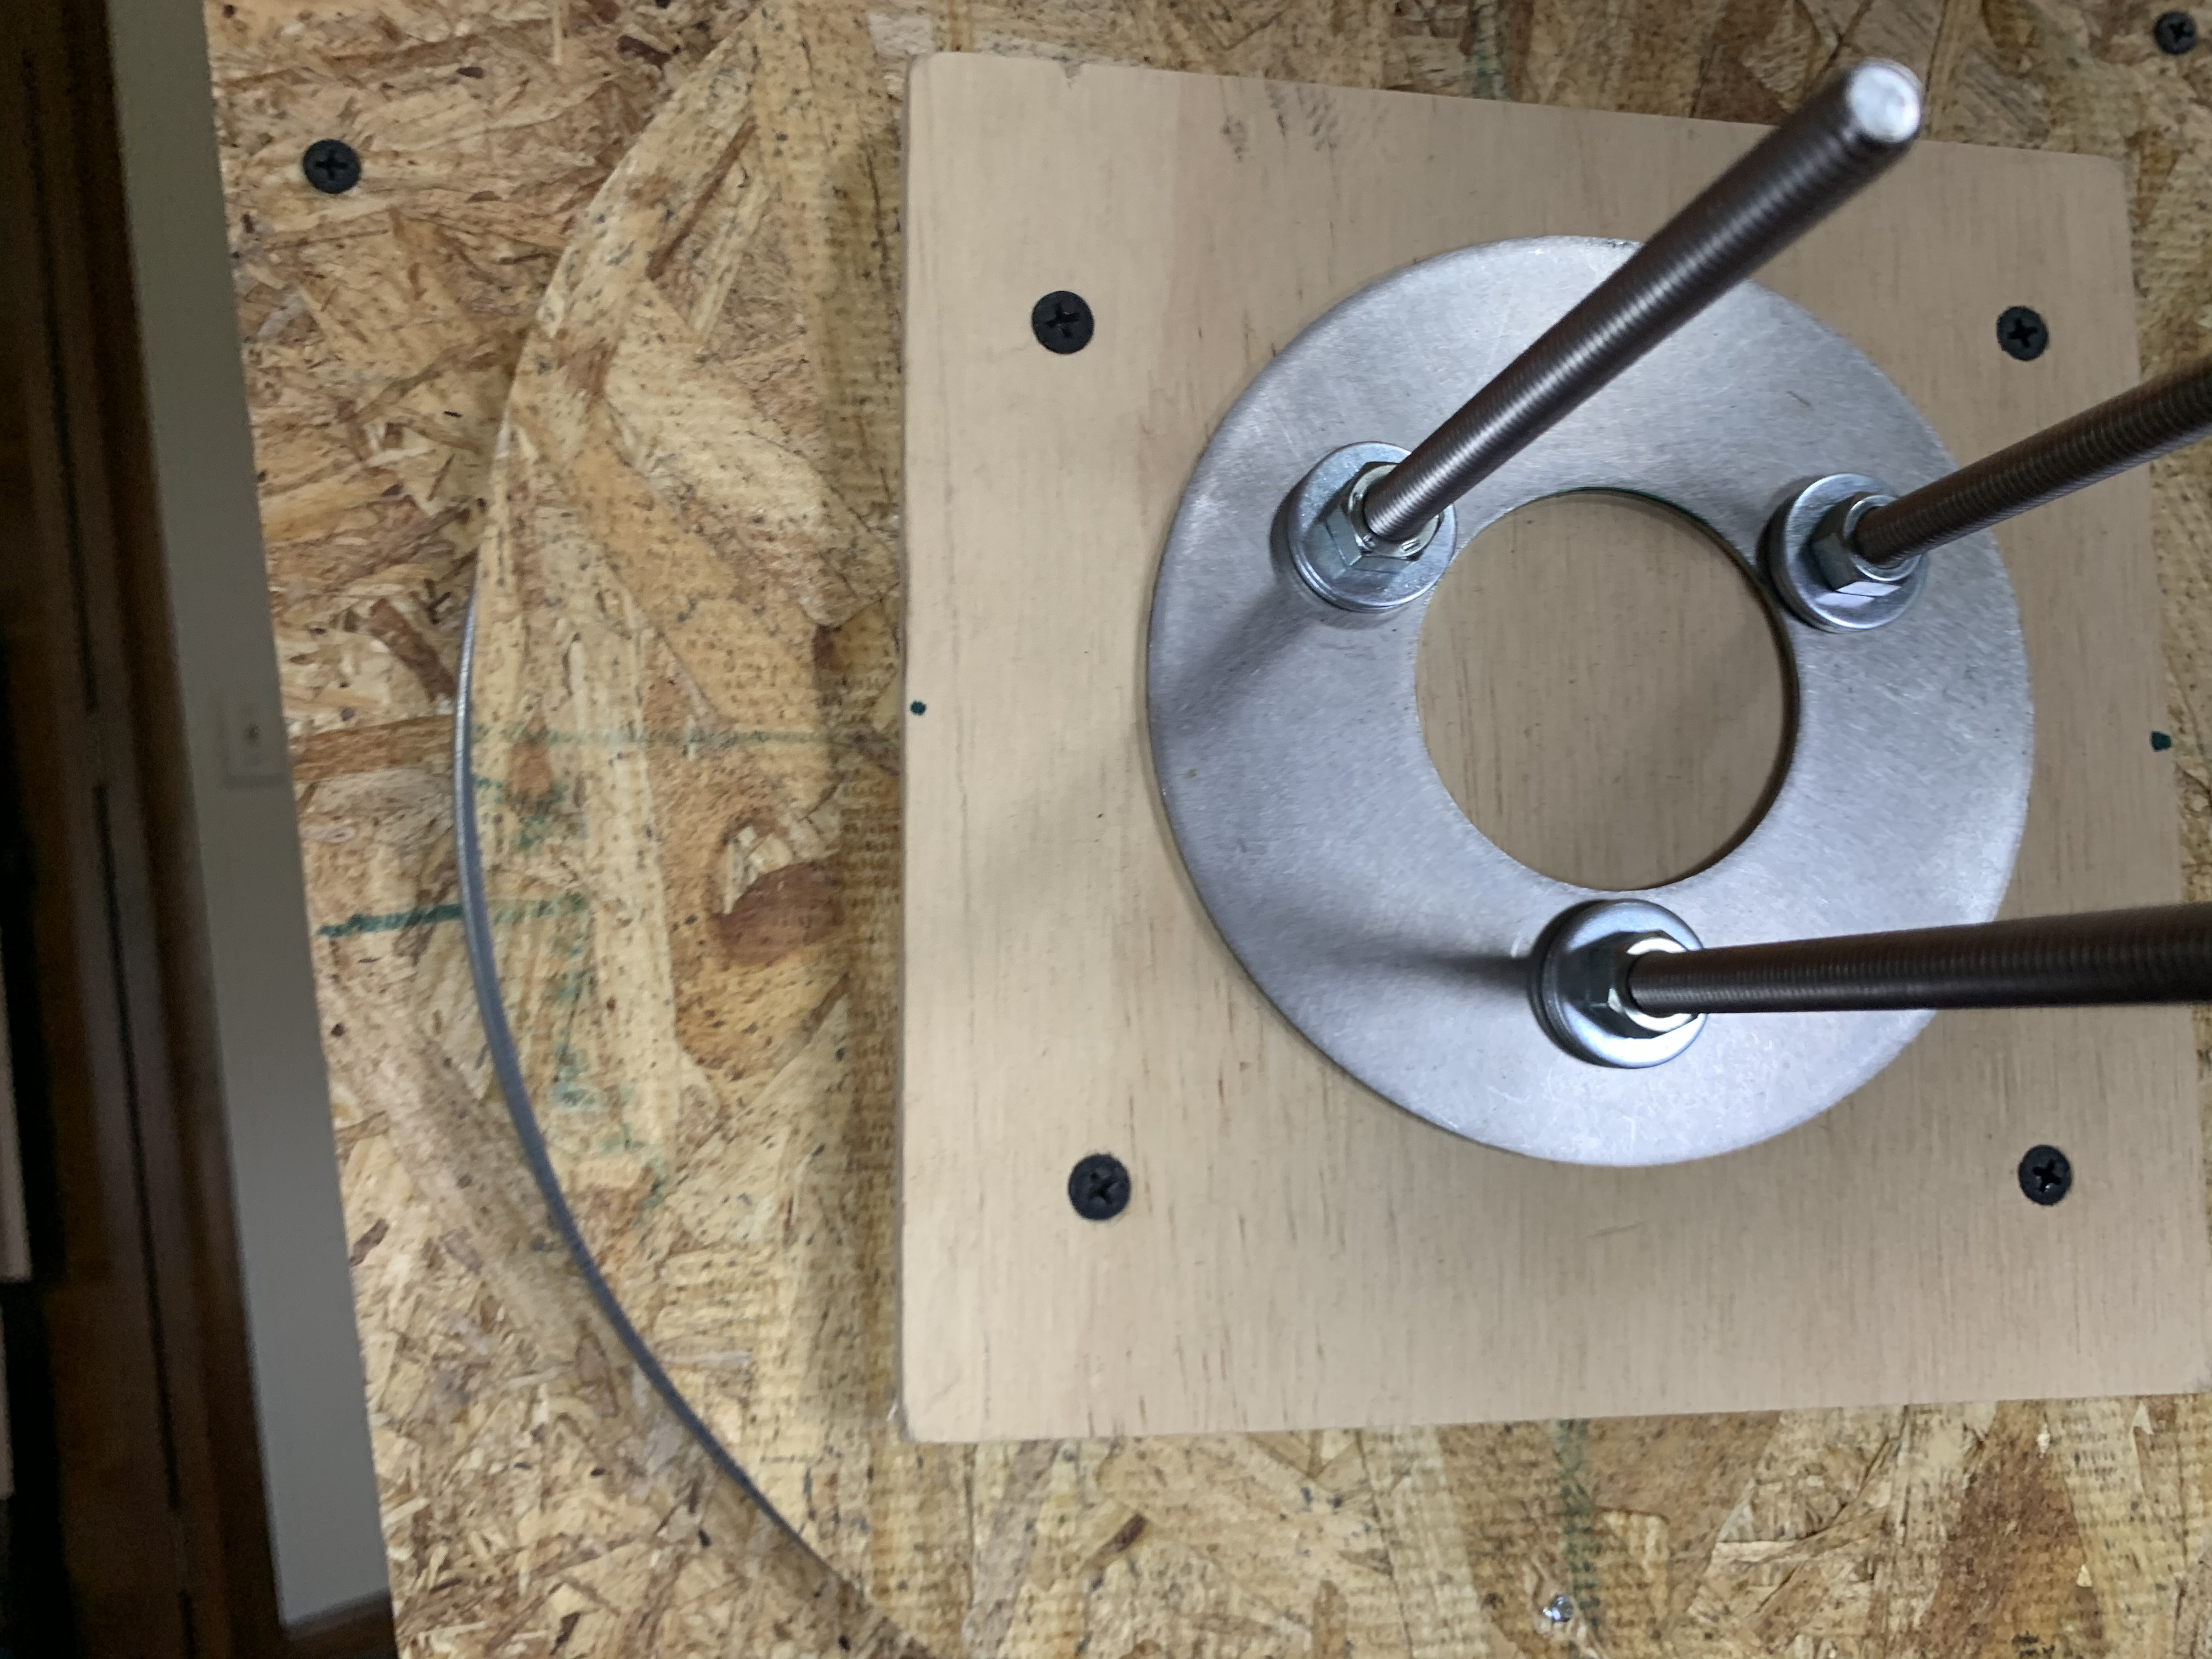bolt: (1280, 444, 1461, 624), (1529, 896, 1707, 1073), (1759, 467, 1932, 640)
